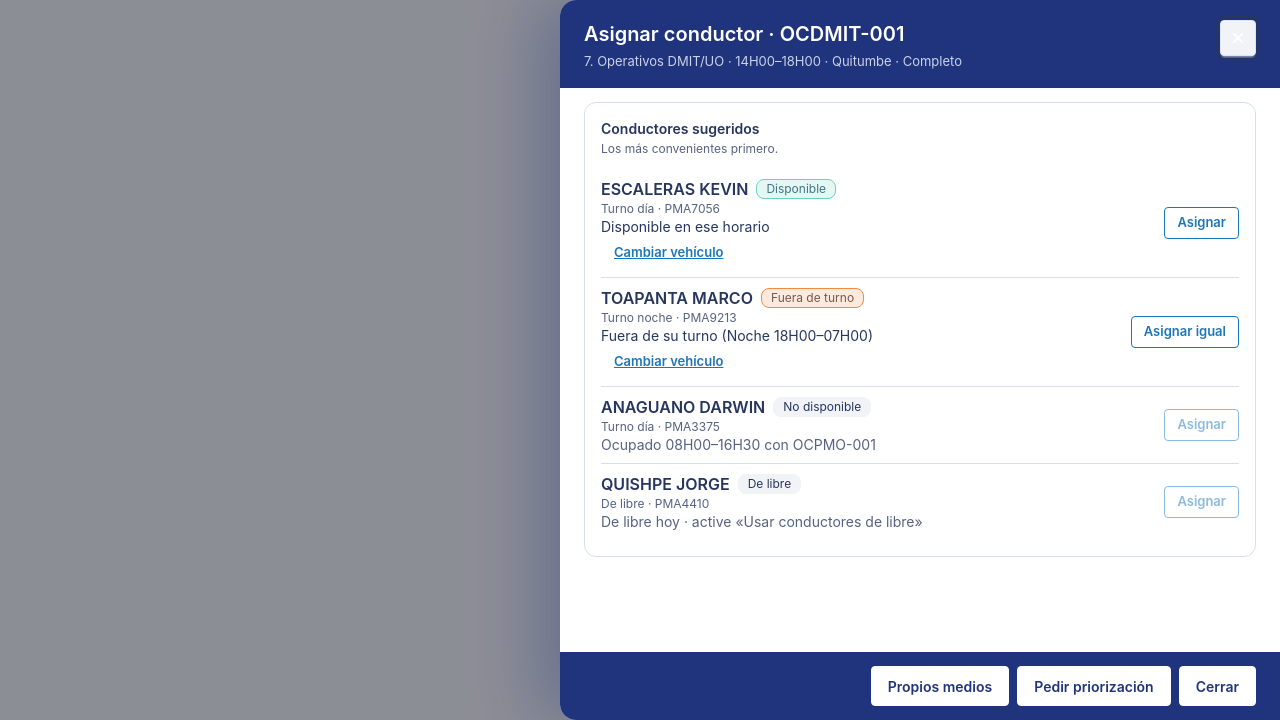
Test case: Cajón «Asignar / Cambiar conductor» › la placa en taller u ocupada va deshabilitada con su motivo; la de aviso se elige y su aviso se lee
Click the button with aria-label "Cambiar vehículo de ESCALERAS KEVIN" at (669, 252), box [601,236,736,268]
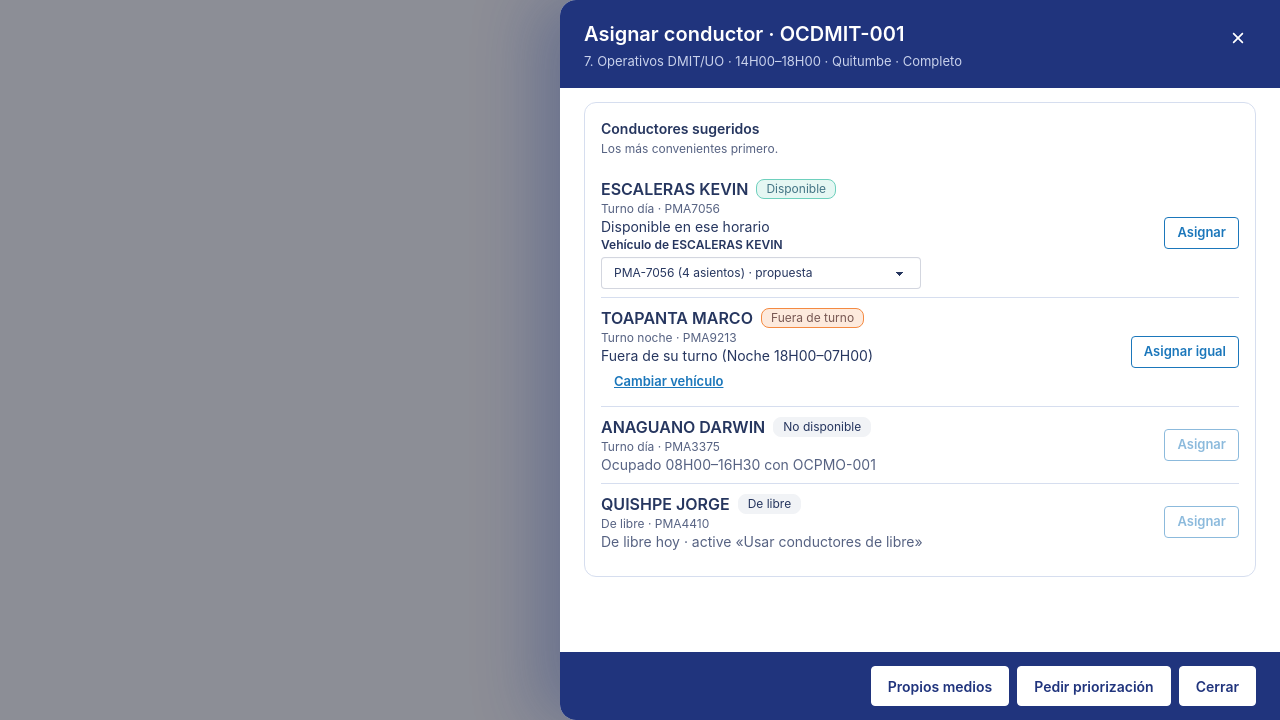
Expected: the dropdown labelled "Vehículo de ESCALERAS KEVIN" is shown
Select "PMA-7895 · Camioneta doble cabina (5 asientos)" in the dropdown at (761, 272), box [601,256,921,288]
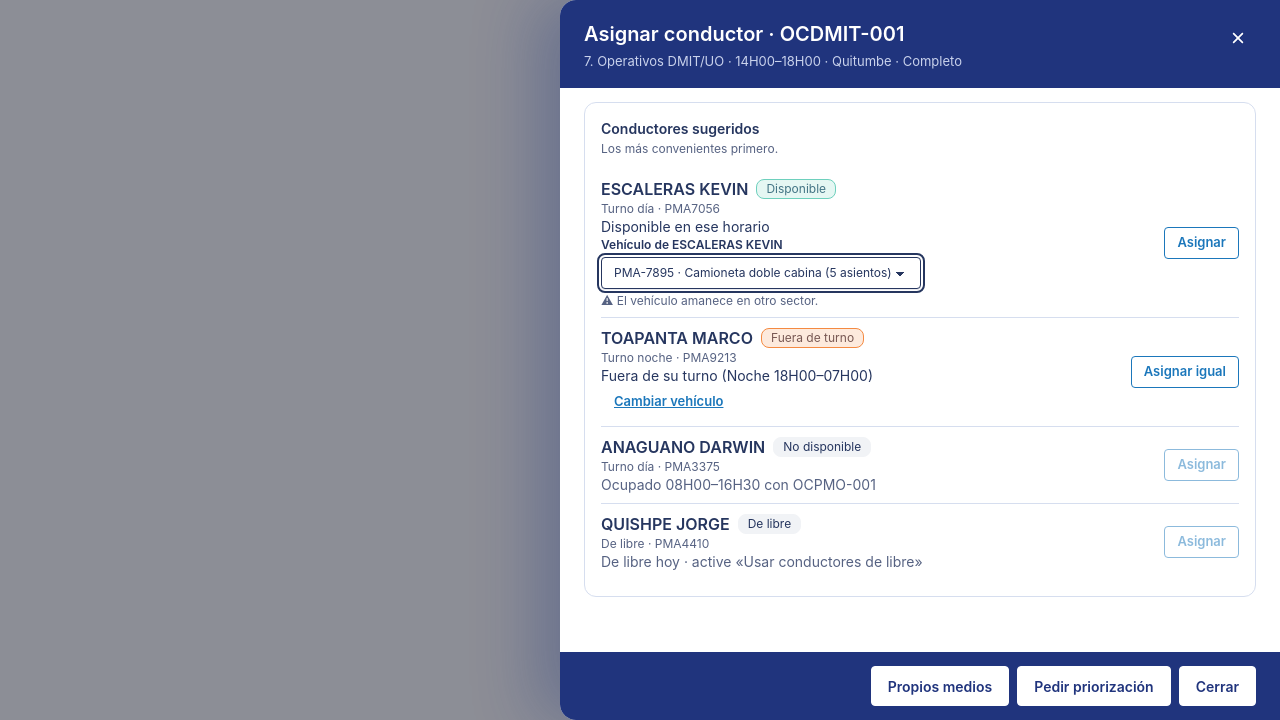
Expected: the text "⚠ El vehículo amanece en otro sector." is shown, [601,292,818,308]
